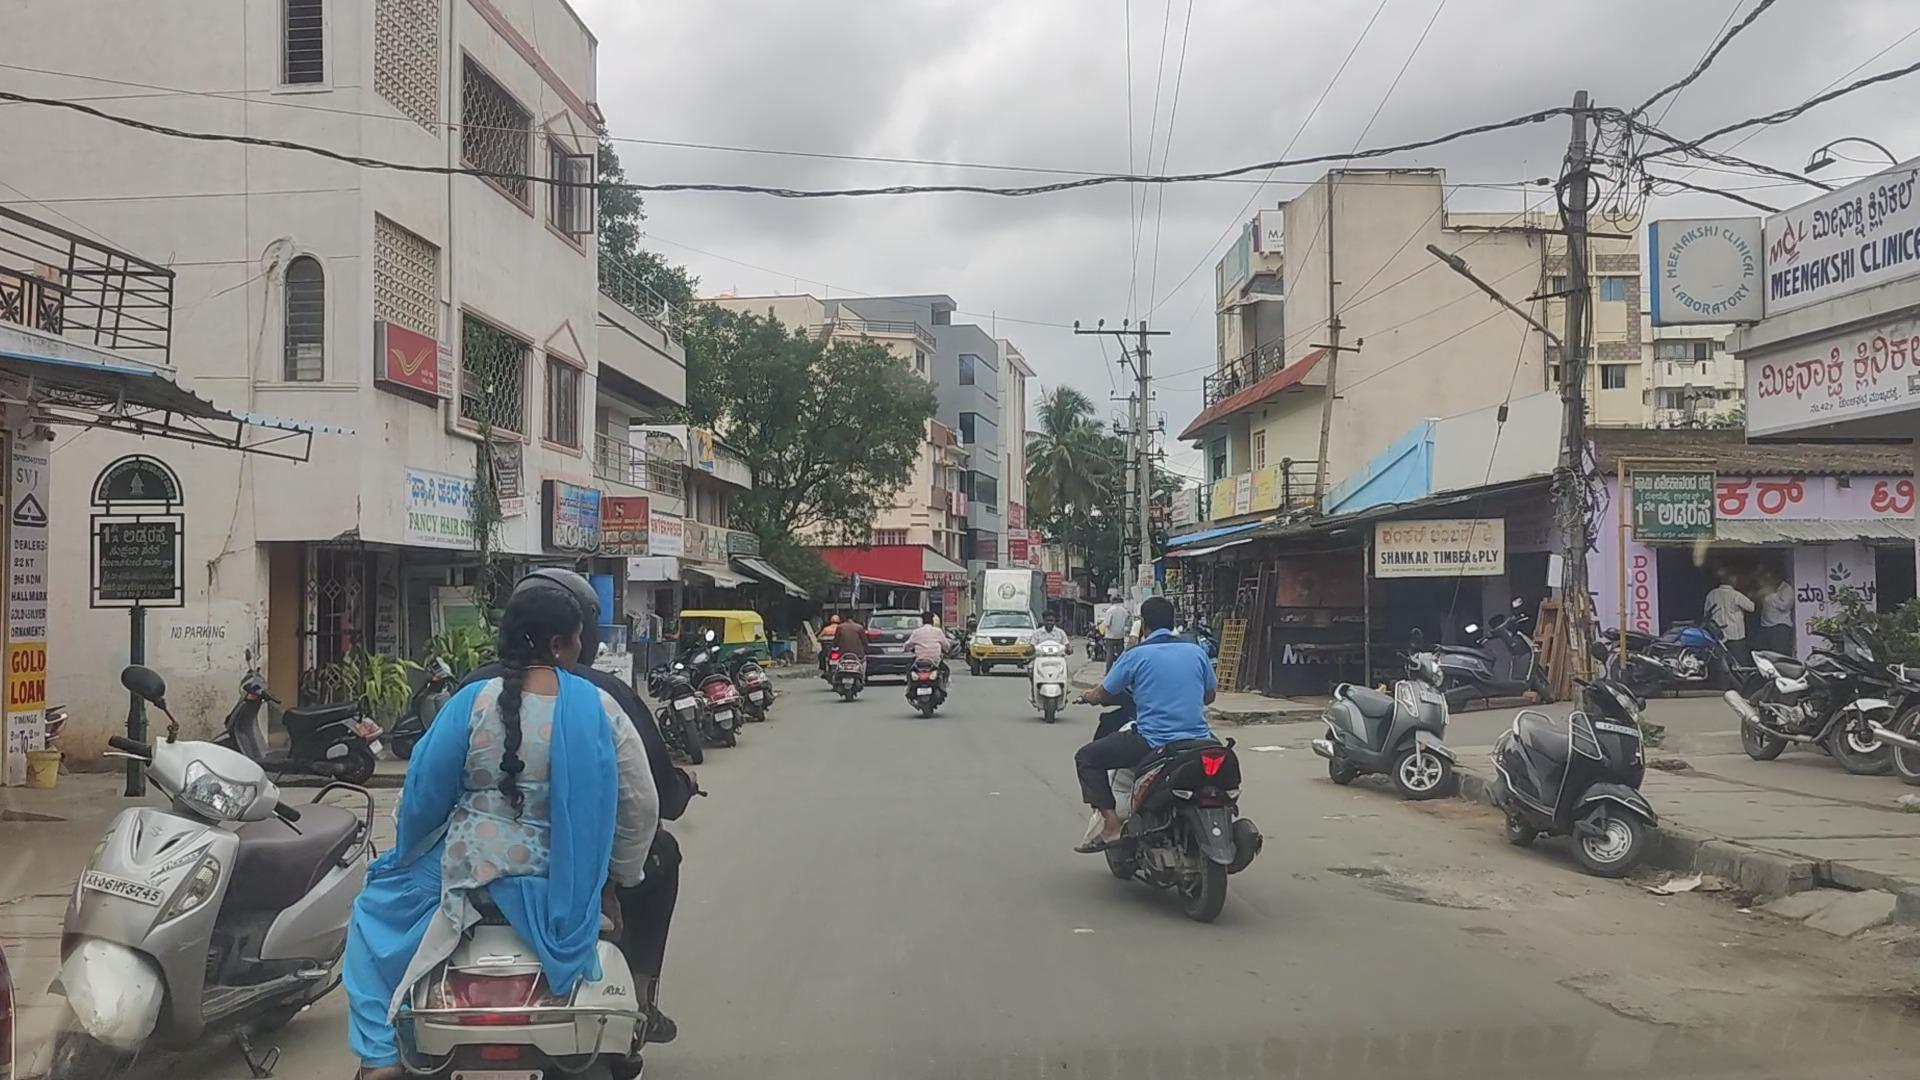LMV: (393, 566, 674, 1080), (1092, 604, 1233, 916), (1033, 611, 1076, 723), (907, 612, 949, 711)
RoadDamages: (1563, 947, 1713, 1047), (1338, 841, 1466, 922)
